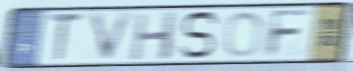F: (263, 7, 315, 60)
H: (129, 9, 180, 62)
O: (222, 10, 266, 59)
S: (176, 10, 222, 61)
T: (47, 11, 85, 64)
V: (86, 8, 138, 65)
